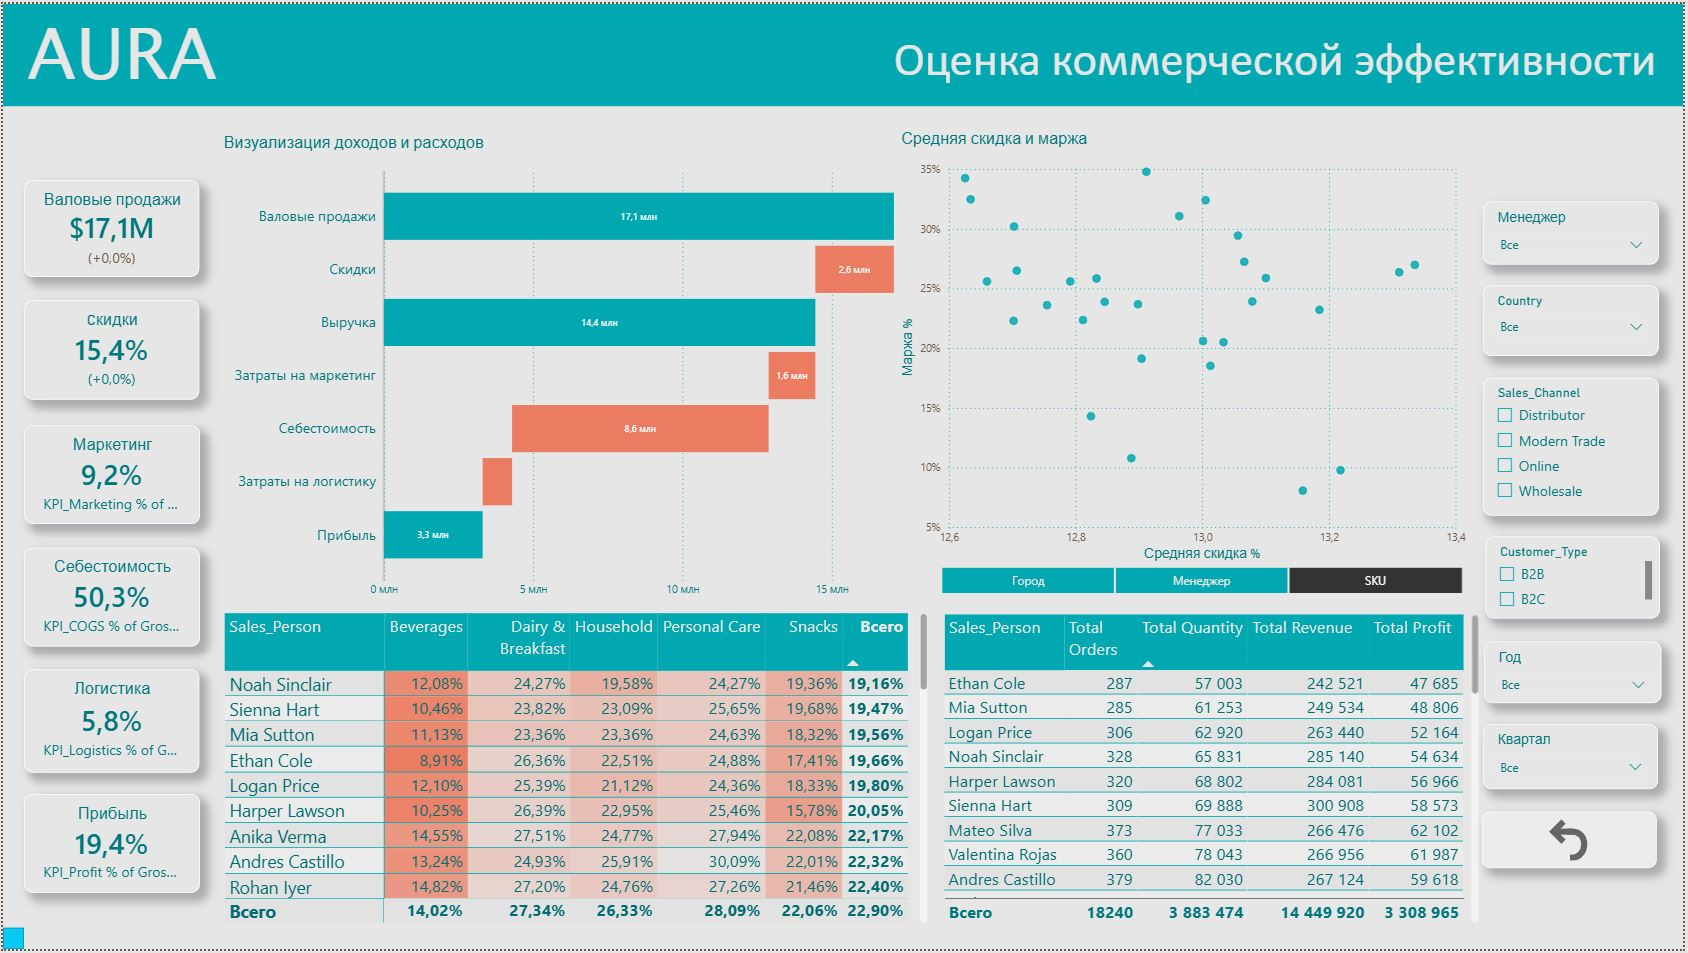

Layout of this report page (visuals, bound fields, positions):
{"tool":"powerbi","page":{"name":"Commercial Efficiency Evaluation","canvas":[1920,1080],"ordinal":2},"visuals":[{"type":"shape","box":[0,0,1920,117.1],"z":0,"group":"g1"},{"type":"slicer","fields":{"Values":["Dim_Person.Sales_Person"]},"box":[1692,225.1,201.1,72.2],"z":0},{"type":"slicer","fields":{"Values":["Dim_Geography.Country"]},"box":[1692,321.8,201.1,81.1],"z":1000},{"type":"slicer","fields":{"Values":["Dim_Channel.Sales_Channel"]},"box":[1692,427.3,201.1,157.8],"z":2000},{"type":"barChart","title":"Визуализация доходов и расходов","fields":{"Category":["Dim_Waterfall_Items.Статья"],"Y":["DAX.Итоги","DAX.Пусто","DAX.Зеленый \"-\"","DAX.Зеленый \"+\"","DAX.Красный \"-\"","DAX.Красный \"+\""]},"box":[231.7,138.3,858.3,553.3],"z":3000},{"type":"pivotTable","fields":{"Columns":["Dim_Product.Product_Category"],"Rows":["Dim_Person.Sales_Person"],"Values":["DAX.Profit Margin %"]},"box":[248.3,691.7,813.3,363.3],"z":4000},{"type":"tableEx","fields":{"Values":["Dim_Person.Sales_Person","DAX.Total Orders","DAX.Total Quantity","DAX.Total Revenue","DAX.Total Profit"]},"box":[1070,693,621.7,362],"z":5000},{"type":"group","id":"g1","title":"Группа 4","box":[0,0,1920,152.9],"z":8000},{"type":"textbox","box":[741.4,25.7,1152.9,100],"z":8000,"group":"g1"},{"type":"textbox","box":[22.9,17.1,258.6,135.7],"z":9000,"group":"g1"},{"type":"shape","box":[0,1055,24,24.4],"z":9000},{"type":"scatterChart","title":"Средняя скидка и маржа","fields":{"Category":["Dim_Product.Product_Name"],"X":["DAX.Avg Discount %"],"Y":["DAX.Profit Margin %"]},"box":[1021.7,143.3,655.8,498.8],"z":10000,"group":"g2"},{"type":"slicer","fields":{"Values":["Fact_Sales.Customer_Type"]},"box":[1694.3,608.6,198.6,102.9],"z":10000},{"type":"slicer","fields":{"Values":["Календарь.Год"]},"box":[1693.1,735.3,202.2,70],"z":11000},{"type":"slicer","fields":{"Values":["Календарь.Квартал"]},"box":[1692,829.7,200,74.3],"z":12000},{"type":"actionButton","box":[1690.3,929.2,199.6,64.5],"z":13000},{"type":"group","id":"g2","title":"Группа 1","box":[1021.7,143.3,670,536.7],"z":15000},{"type":"slicer","fields":{"Values":["Scatter.Scatter"]},"box":[1047.9,637.2,643.8,42.8],"z":15000,"group":"g2"},{"type":"cardVisual","title":"Cкидки","fields":{"Data":["DAX.KPI_Discount %_Value"]},"box":[24.7,338.3,200,113.3],"z":16000},{"type":"cardVisual","title":"Валовые продажи","fields":{"Data":["DAX.KPI_Gross Sales_Value"]},"box":[24.7,201.7,200,110],"z":17000},{"type":"cardVisual","title":"Маркетинг","fields":{"Data":["DAX.KPI_Marketing % of Gross_Value"]},"box":[24,481.7,200.4,112.5],"z":18000},{"type":"cardVisual","title":"Себестоимость","fields":{"Data":["DAX.KPI_COGS % of Gross_Value"]},"box":[24.7,621.7,200.4,112.5],"z":19000},{"type":"cardVisual","title":"Логистика","fields":{"Data":["DAX.KPI_Logistics % of Gross_Value"]},"box":[24.7,760,200,118.3],"z":20000},{"type":"cardVisual","title":"Прибыль","fields":{"Data":["DAX.KPI_Profit % of Gross_Value"]},"box":[24.7,903.3,200.4,112.5],"z":21000}]}

Visuals, with their boxes in screenshot pixels (x1, y1, x2, y2), scaled from the page's 1920x1080 canvas onto the 1688x953 screenshot:
shape: (0, 0, 1687, 103)
slicer - Dim_Person.Sales_Person: (1488, 199, 1664, 262)
slicer - Dim_Geography.Country: (1488, 284, 1664, 356)
slicer - Dim_Channel.Sales_Channel: (1488, 377, 1664, 516)
"Визуализация доходов и расходов" barChart: (204, 122, 958, 610)
pivotTable - Dim_Product.Product_Category x Dim_Person.Sales_Person: (218, 610, 933, 931)
tableEx - Dim_Person.Sales_Person x DAX.Total Orders: (941, 612, 1487, 931)
"Группа 4" group: (0, 0, 1687, 135)
textbox: (652, 23, 1665, 111)
textbox: (20, 15, 247, 135)
shape: (0, 931, 21, 952)
"Средняя скидка и маржа" scatterChart: (898, 126, 1475, 567)
slicer - Fact_Sales.Customer_Type: (1490, 537, 1664, 628)
slicer - Календарь.Год: (1489, 649, 1666, 711)
slicer - Календарь.Квартал: (1488, 732, 1663, 798)
actionButton: (1486, 820, 1662, 877)
"Группа 1" group: (898, 126, 1487, 600)
slicer - Scatter.Scatter: (921, 562, 1487, 600)
"Cкидки" cardVisual: (22, 299, 198, 398)
"Валовые продажи" cardVisual: (22, 178, 198, 275)
"Маркетинг" cardVisual: (21, 425, 197, 524)
"Себестоимость" cardVisual: (22, 549, 198, 648)
"Логистика" cardVisual: (22, 671, 198, 775)
"Прибыль" cardVisual: (22, 797, 198, 896)
